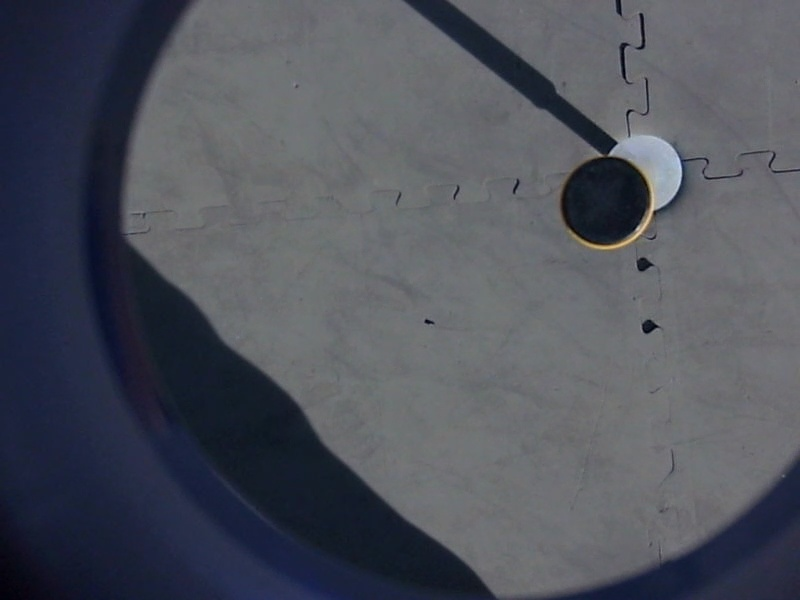tip: (552, 152, 657, 260)
